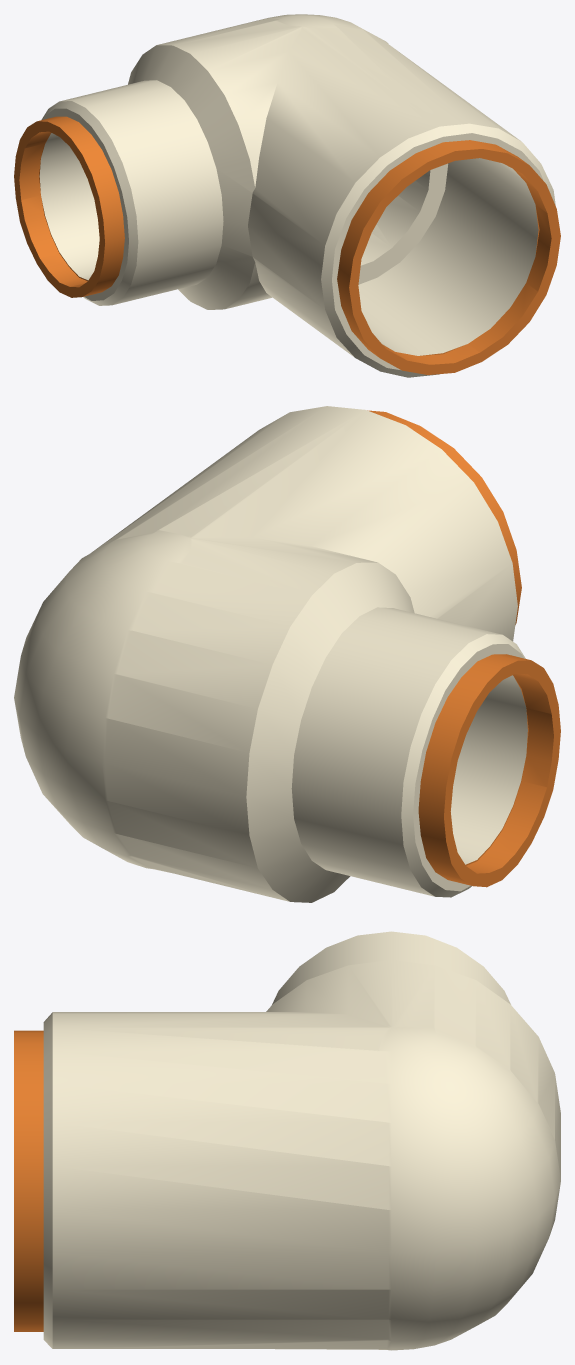
The model's file is pipes_supply__shutoff_extra-attic+none_and_plumbing-cpvc.glb.
3 views of the same model, one above another, from view 1: azimuth 30°, elevation 25°; view 2: azimuth 150°, elevation 25°; view 3: azimuth 270°, elevation 25° (orthographic). The views are drawn at different scales.
Visible parts, largest first — view 1: fit_elbow_pipe_supply_cold_trunk; view 2: fit_elbow_pipe_supply_cold_trunk; view 3: fit_elbow_pipe_supply_cold_trunk.
Part boxes in pixels (x1,y1,x2,y2): fit_elbow_pipe_supply_cold_trunk: [14, 14, 560, 377]; fit_elbow_pipe_supply_cold_trunk: [14, 406, 560, 902]; fit_elbow_pipe_supply_cold_trunk: [14, 931, 560, 1350].
Bounding box in the file's own units: 0.0425 × 0.0278 × 0.0449.
